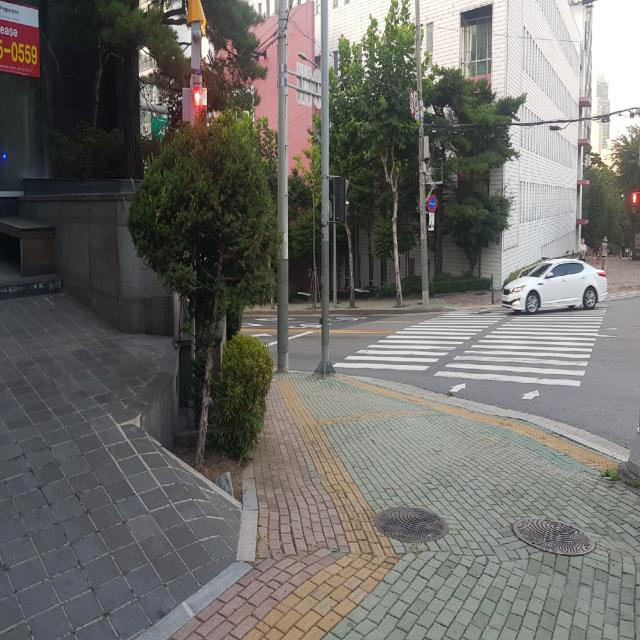빨간불: (632, 194, 638, 218)
횡단보도: (332, 302, 609, 400)
